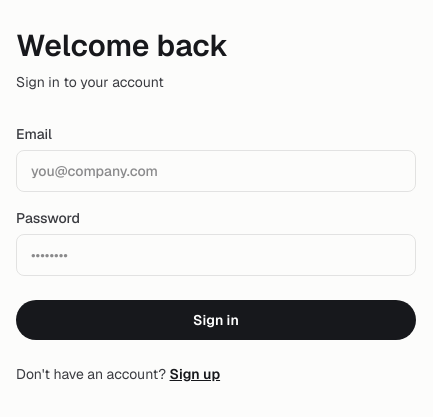
Scenario: LoginForm › shows a network-error message when the request itself fails
Type "jane@example.com" into the field with placeholder "you@company.com".
click(216, 170); type("jane@example.com")  # box [16,150,416,192]
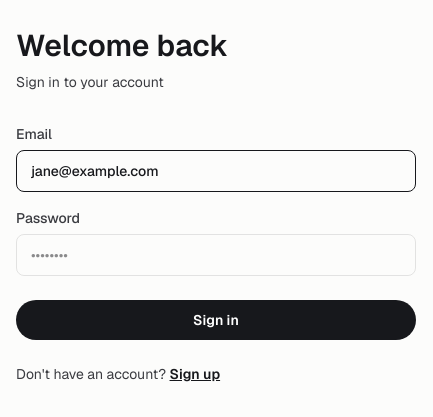
Type "correcthorsebattery" into the password field with placeholder "••••••••".
click(216, 254); type("correcthorsebattery")  # box [16,234,416,276]
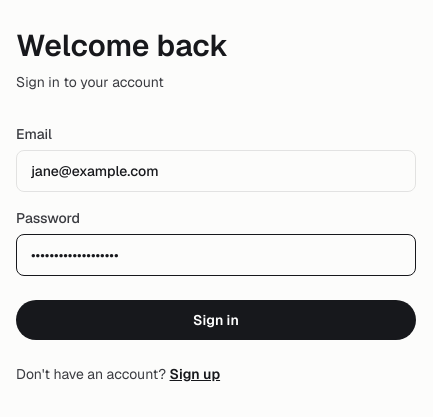
Click the button "Sign in".
click(216, 320)  # box [16,300,416,340]
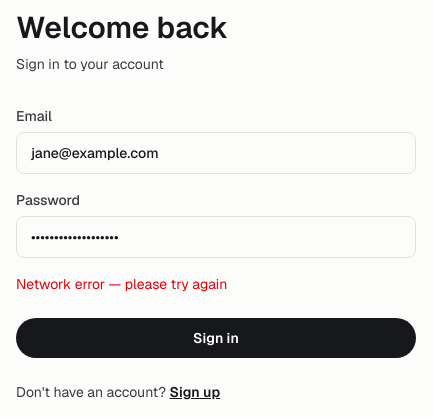
expect the text "Network error — please try again" is shown: met, box [16,274,227,292]
